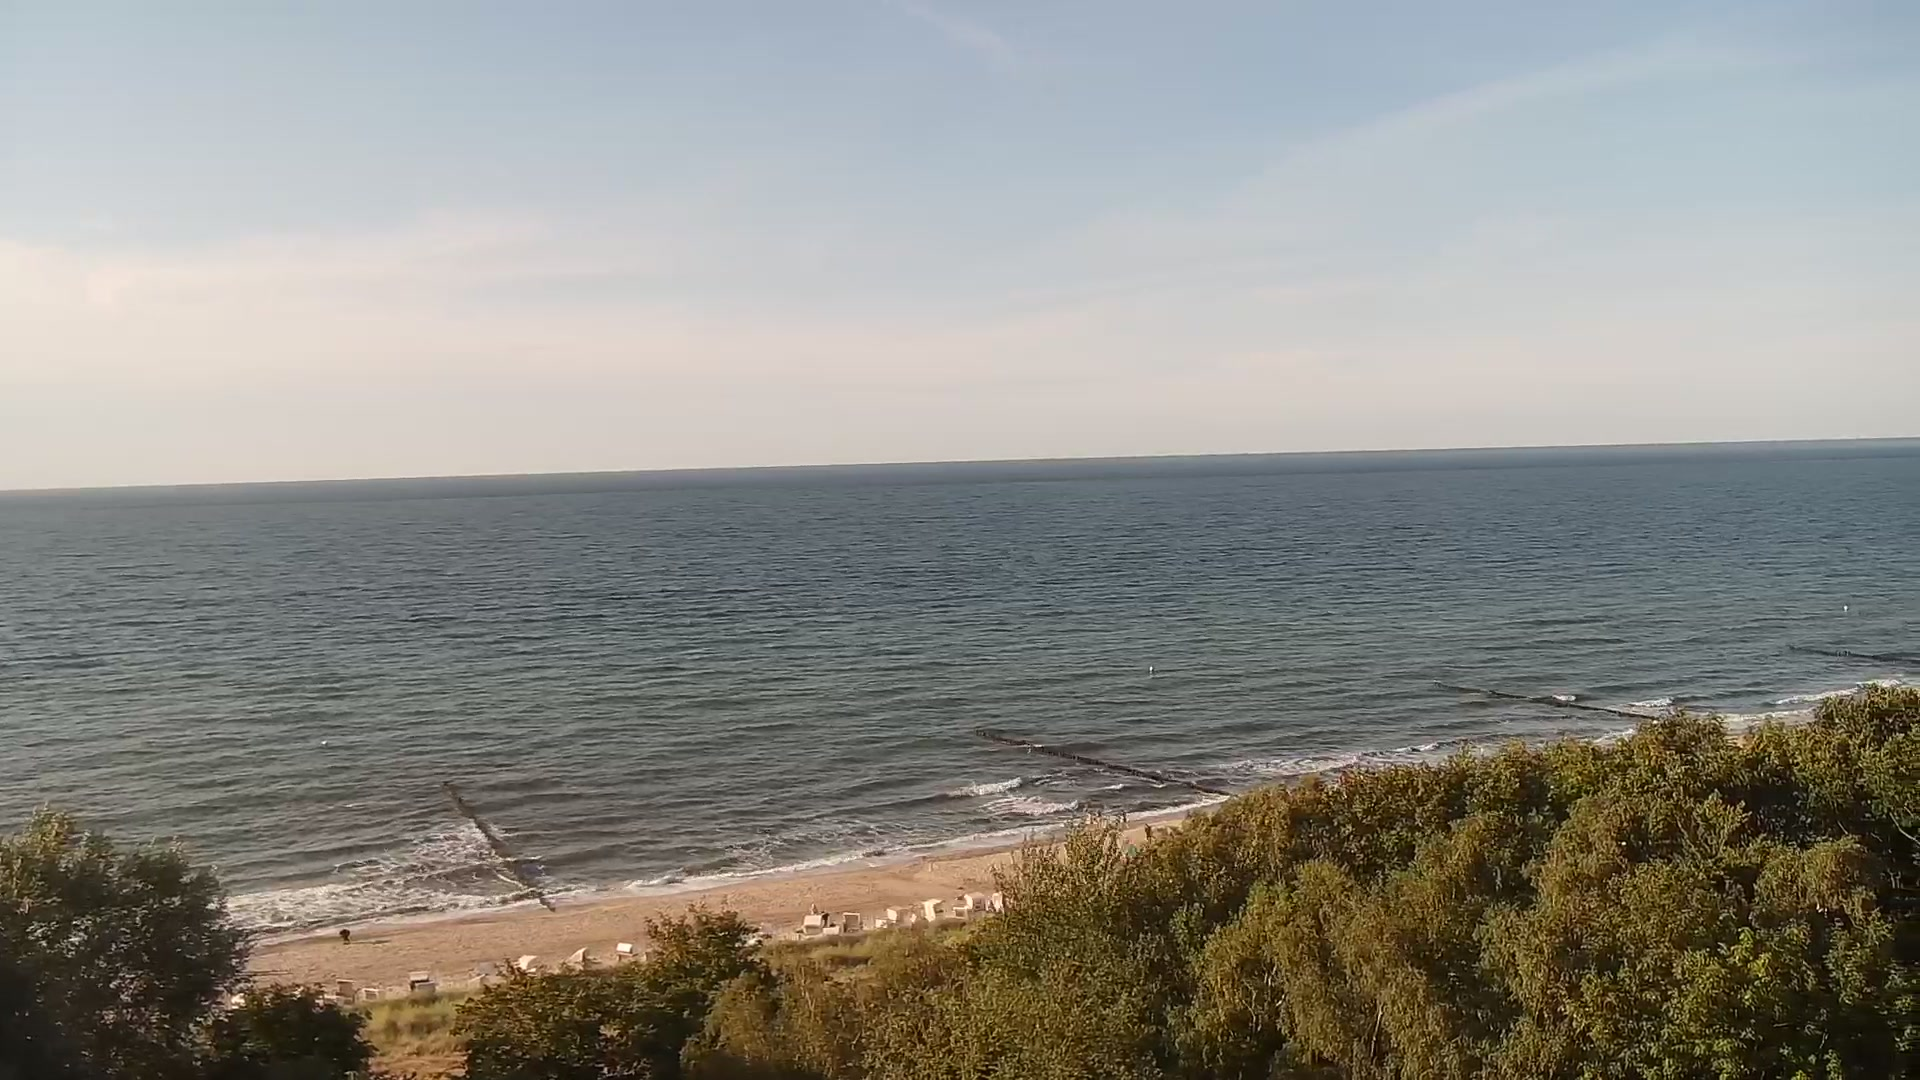human: (339, 927, 350, 944), (1145, 823, 1153, 840)
